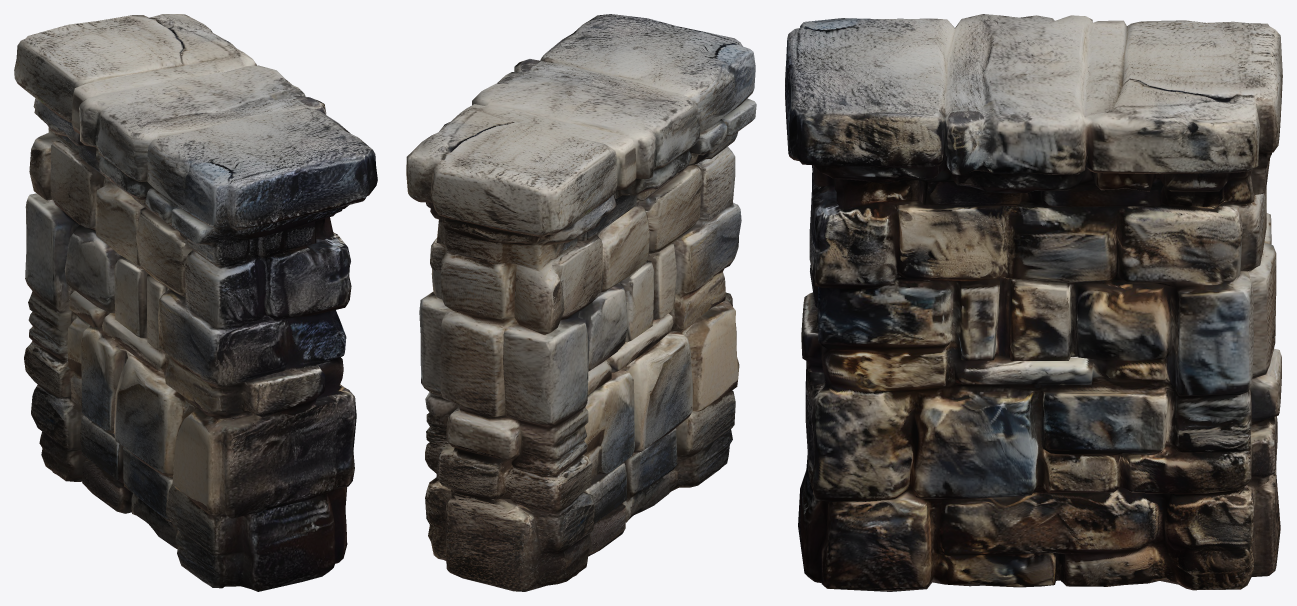
Rendered from pared.glb.
3 renders of one model, left to right at view 1: azimuth 30°, elevation 25°; view 2: azimuth 150°, elevation 25°; view 3: azimuth 270°, elevation 25°, orthographic. The views are drawn at different scales.
Visible parts, largest first — view 1: tripo_node_634e6377-fc0d-492c-9789-8ea6f86ea946; view 2: tripo_node_634e6377-fc0d-492c-9789-8ea6f86ea946; view 3: tripo_node_634e6377-fc0d-492c-9789-8ea6f86ea946.
Boxes of the visible parts, box(x1,y1,x2,y2) form: tripo_node_634e6377-fc0d-492c-9789-8ea6f86ea946: box(14, 14, 377, 591); tripo_node_634e6377-fc0d-492c-9789-8ea6f86ea946: box(406, 14, 756, 591); tripo_node_634e6377-fc0d-492c-9789-8ea6f86ea946: box(785, 14, 1282, 591).
Bounding box in the file's own units: 0.4668 × 0.998 × 0.9043.
Materials: 1 (1 with a texture image).
